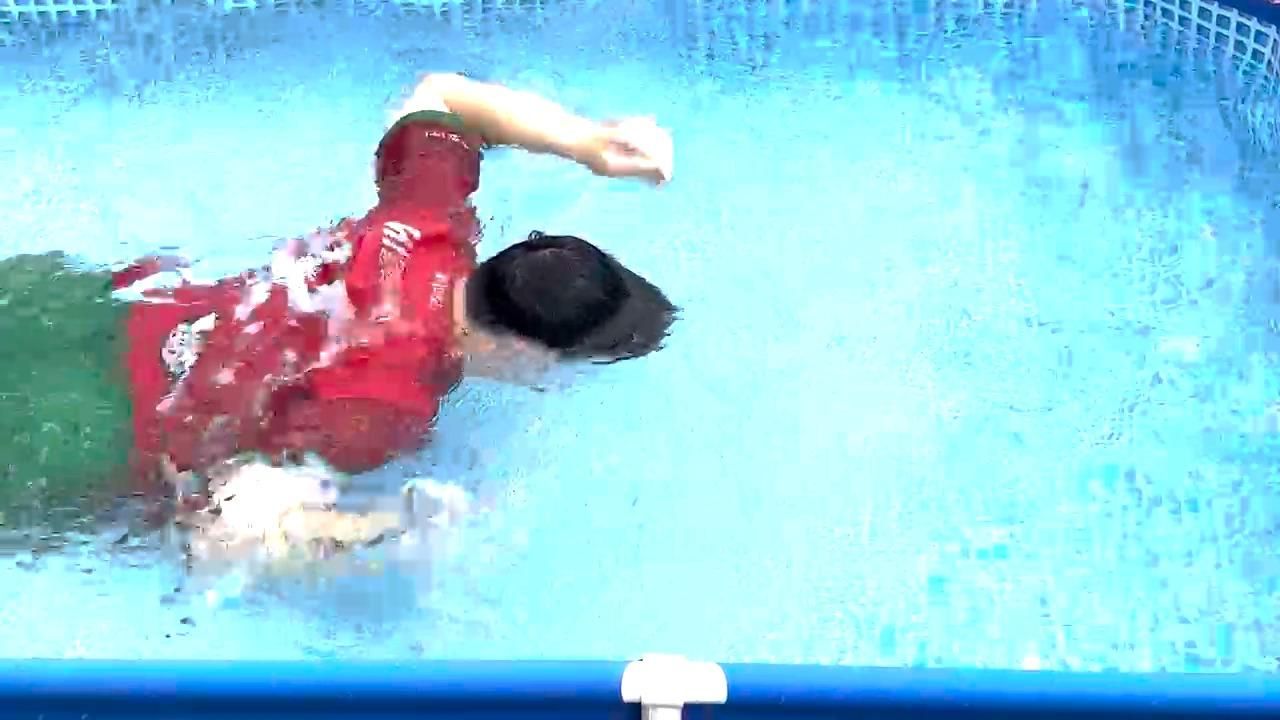Drowning: (12, 70, 807, 625)
